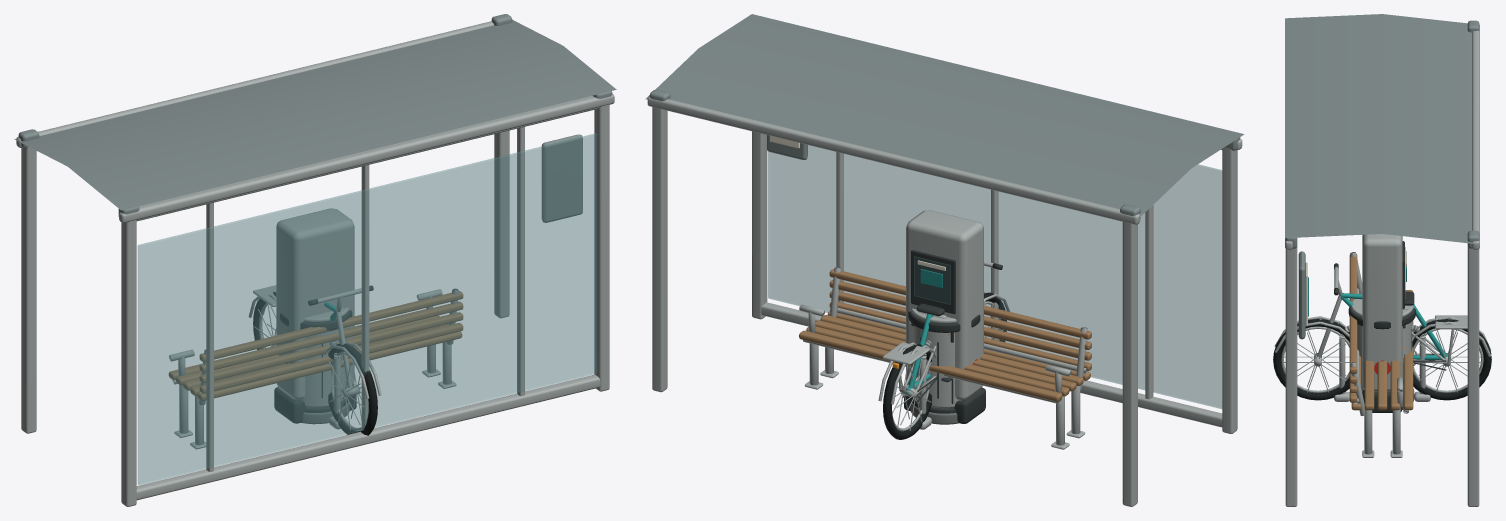
File: street-props.glb
3 renders of one model, left to right at view 1: azimuth 30°, elevation 25°; view 2: azimuth 150°, elevation 25°; view 3: azimuth 270°, elevation 25°, orthographic. The views are drawn at different scales.
Parts seen in each view (by area): view 1: glass_assembly, roof_assembly, metal_assembly.003, wood_assembly, metal_assembly.004, metal_assembly.001, metal_assembly.005, metal_assembly.006, rubber_assembly, dark_assembly.001, dark_assembly.002; view 2: glass_assembly, roof_assembly, metal_assembly.003, wood_assembly, metal_assembly.004, metal_assembly.005, dark_assembly.001, metal_assembly.001, metal_assembly.006, rubber_assembly, glass_assembly.001, dark_assembly.002; view 3: roof_assembly, metal_assembly.003, metal_assembly.004, metal_assembly.001, wood_assembly, rubber_assembly, metal_assembly.005, metal_assembly.002, metal_assembly.006, teal_assembly, dark_assembly.001, dark_assembly.002 (+1 smaller).
Boxes of the visible parts, x1=… form: glass_assembly: x1=137, y1=133, x2=597, y2=485; roof_assembly: x1=14, y1=14, x2=616, y2=222; metal_assembly.003: x1=16, y1=21, x2=614, y2=506; wood_assembly: x1=168, y1=291, x2=463, y2=400; metal_assembly.004: x1=276, y1=208, x2=354, y2=399; metal_assembly.001: x1=248, y1=285, x2=381, y2=430; metal_assembly.005: x1=169, y1=288, x2=458, y2=449; metal_assembly.006: x1=302, y1=307, x2=349, y2=407; rubber_assembly: x1=253, y1=292, x2=377, y2=435; dark_assembly.001: x1=274, y1=386, x2=356, y2=423; dark_assembly.002: x1=280, y1=310, x2=352, y2=412; glass_assembly: x1=768, y1=145, x2=1222, y2=408; roof_assembly: x1=645, y1=14, x2=1244, y2=219; metal_assembly.003: x1=647, y1=96, x2=1242, y2=506; wood_assembly: x1=799, y1=269, x2=1091, y2=401; metal_assembly.004: x1=906, y1=210, x2=983, y2=400; metal_assembly.005: x1=799, y1=267, x2=1087, y2=449; dark_assembly.001: x1=904, y1=250, x2=985, y2=423; metal_assembly.001: x1=878, y1=261, x2=1009, y2=431; metal_assembly.006: x1=911, y1=308, x2=958, y2=408; rubber_assembly: x1=883, y1=292, x2=1006, y2=439; glass_assembly.001: x1=914, y1=256, x2=950, y2=304; dark_assembly.002: x1=908, y1=311, x2=980, y2=413; roof_assembly: x1=1285, y1=14, x2=1479, y2=339; metal_assembly.003: x1=1285, y1=25, x2=1479, y2=506; metal_assembly.004: x1=1362, y1=234, x2=1402, y2=391; metal_assembly.001: x1=1274, y1=267, x2=1491, y2=392; wood_assembly: x1=1349, y1=254, x2=1413, y2=410; rubber_assembly: x1=1273, y1=319, x2=1491, y2=400; metal_assembly.005: x1=1350, y1=252, x2=1408, y2=457; metal_assembly.002: x1=1334, y1=325, x2=1430, y2=401; metal_assembly.006: x1=1351, y1=299, x2=1413, y2=391; teal_assembly: x1=1340, y1=293, x2=1451, y2=359; dark_assembly.001: x1=1362, y1=241, x2=1405, y2=412; dark_assembly.002: x1=1348, y1=307, x2=1415, y2=350.
Bounding box in the file's own units: 4.4 × 2.58 × 1.85.
